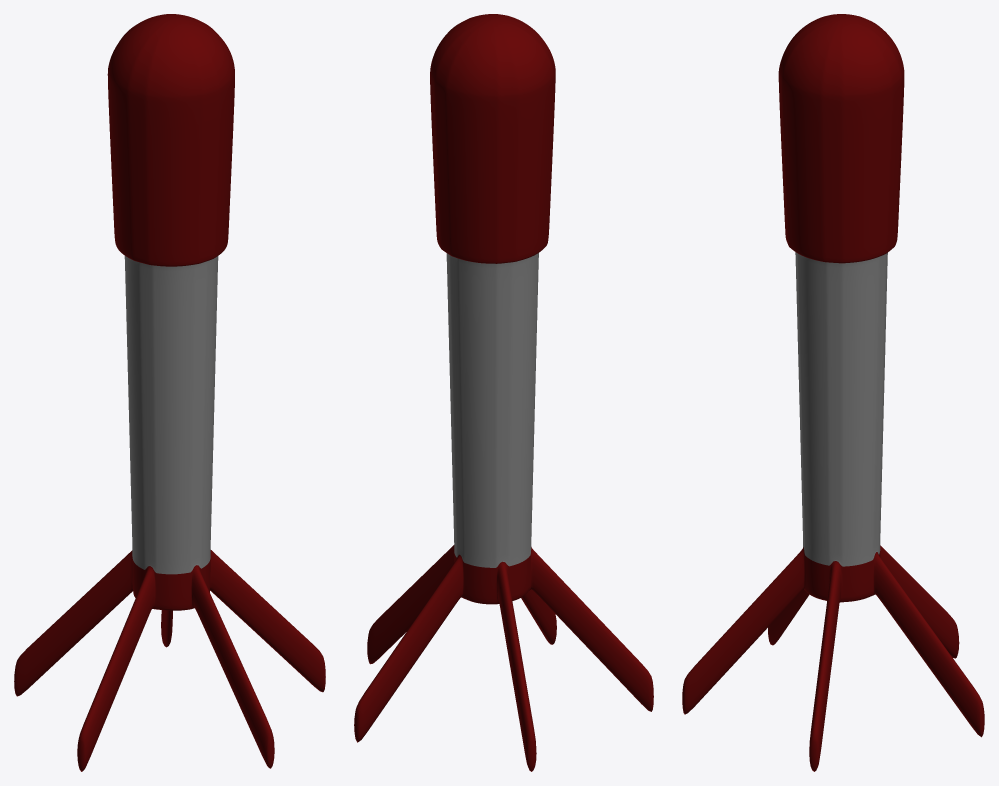
The model's file is Rocket.fbx.
The picture shows the model from 3 angles, left to right: view 1: azimuth 30°, elevation 25°; view 2: azimuth 150°, elevation 25°; view 3: azimuth 270°, elevation 25°; orthographic projection.
Parts seen in each view (by area): view 1: Rocket_GEO; view 2: Rocket_GEO; view 3: Rocket_GEO.
Part boxes in pixels (bbox=[...]): Rocket_GEO: bbox=[14, 14, 325, 771]; Rocket_GEO: bbox=[354, 14, 653, 771]; Rocket_GEO: bbox=[682, 14, 984, 771].
Size of the model in its own units: 4.76 by 11.83 by 4.73.
